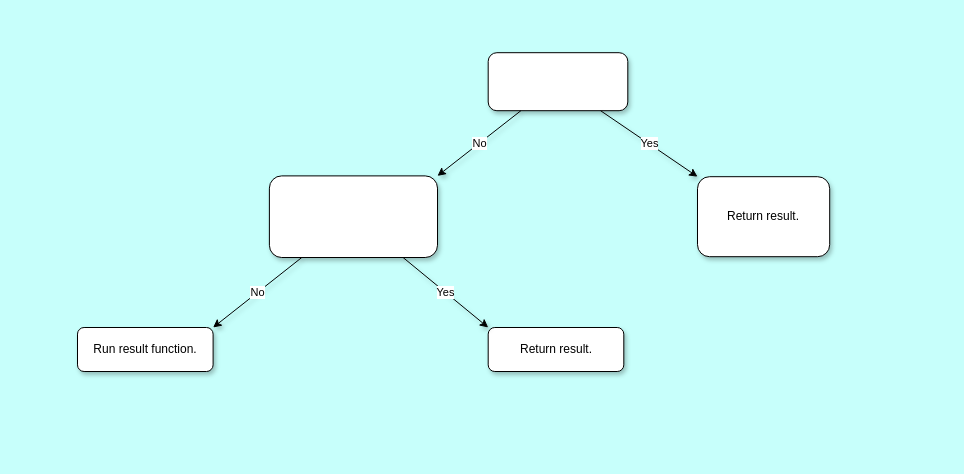
The diagram is 964 pixels wide and 474 high, and some of its shapes have lost their labels. The shapes that lost their labels are listed below. From the top down, each one's centre as x and y in pixels, then its label:
At [558,83]: "Are arguments same as last time?".
At [354,217]: "Run input selectors. Are the results of input selectors same as last time?".
